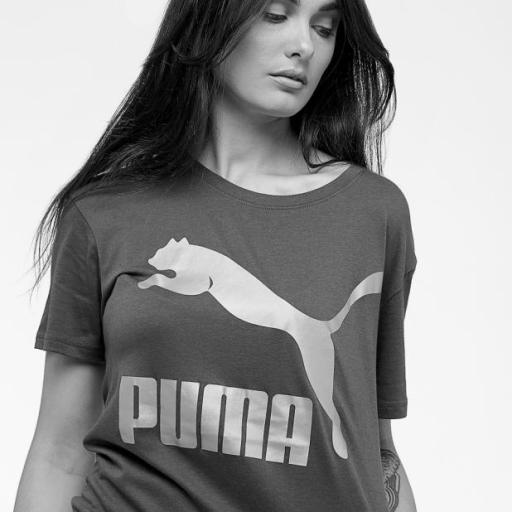Puma: (136, 234, 387, 462)
